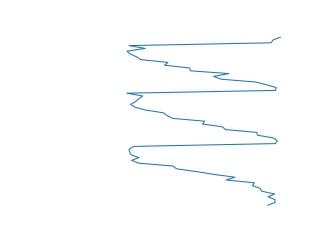distributaryMouthBar: (124, 36, 286, 207)
